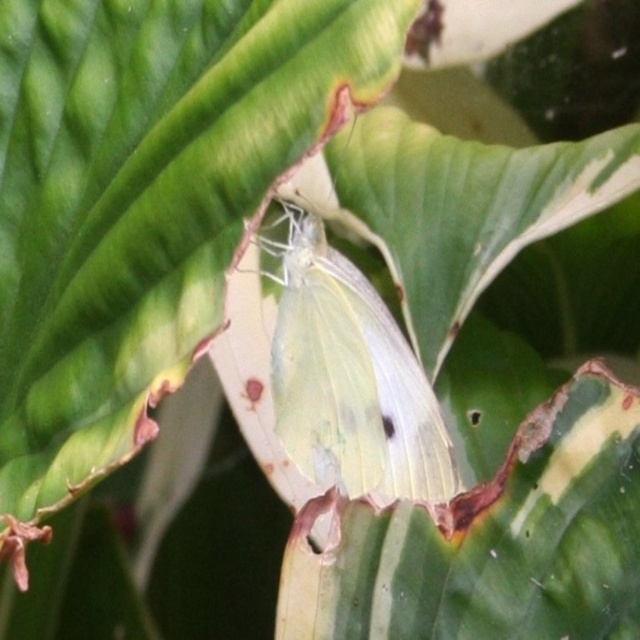Butterfly: (234, 115, 457, 509)
